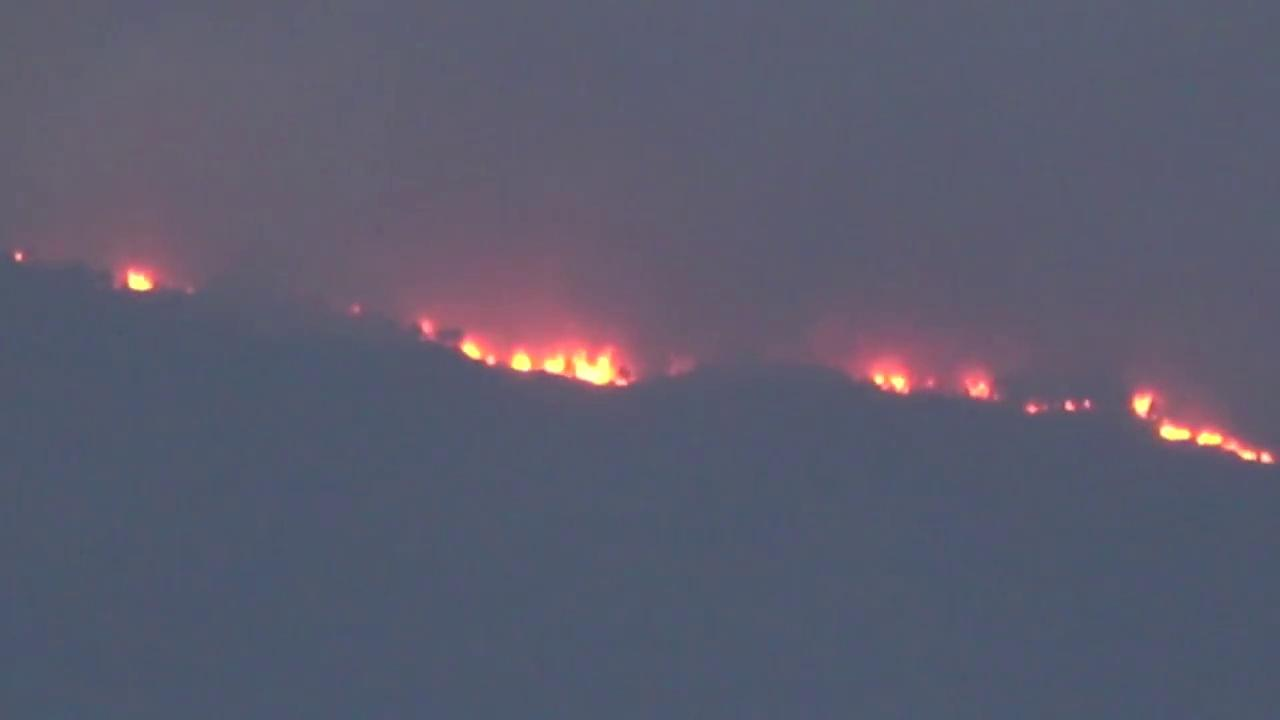fire: (1130, 389, 1271, 467), (453, 333, 631, 388), (864, 368, 906, 394), (120, 267, 155, 293), (962, 379, 993, 398)
